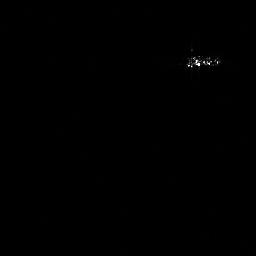ship: (183, 53, 225, 73)
